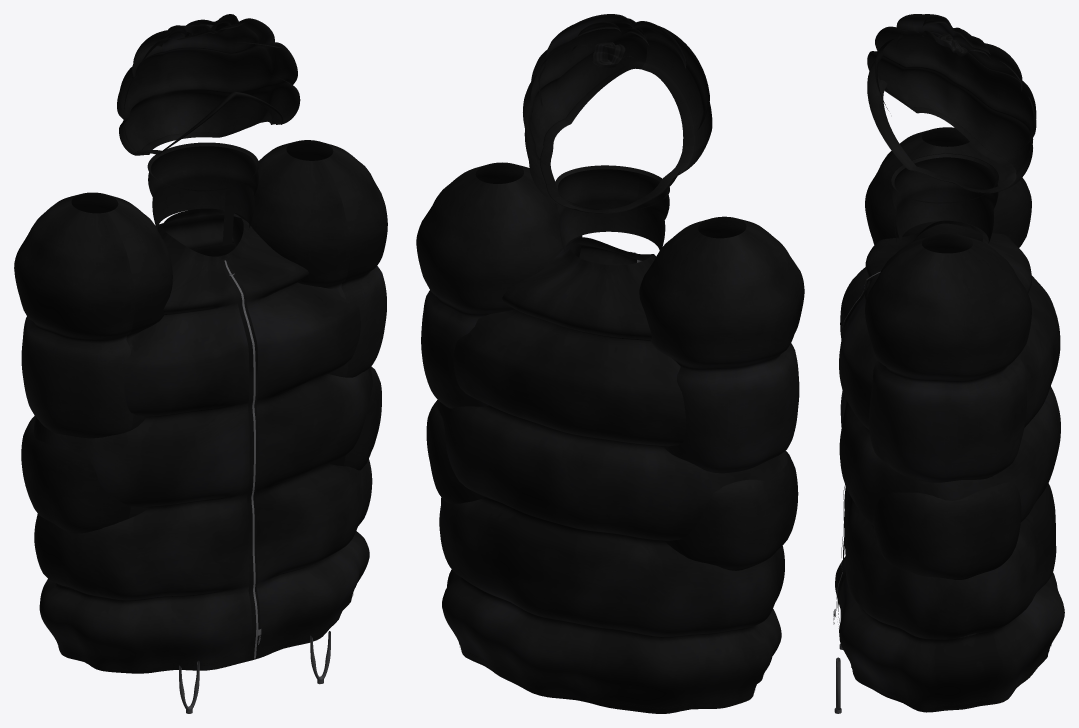
File: glossy-hooded-puffer.glb
3 renders of one model, left to right at view 1: azimuth 30°, elevation 25°; view 2: azimuth 150°, elevation 25°; view 3: azimuth 270°, elevation 25°, orthographic. The views are drawn at different scales.
Visible parts, largest first — view 1: Measured garment body#0, Sleeve#19, Sleeve#23, Quilted hood#4, Stand collar#2, Zip tape#7, Hood mouth edge#6, Silver coil zipper#8, Collar top edge#3; view 2: Measured garment body#0, Sleeve#19, Sleeve#23, Quilted hood#4, Stand collar#2, Hood mouth edge#6, Collar top edge#3, Hood crown#5; view 3: Measured garment body#0, Sleeve#23, Quilted hood#4, Sleeve#19, Stand collar#2, Hood mouth edge#6, Collar top edge#3, Zip tape#7.
Boxes of the visible parts, x1=… form: Measured garment body#0: x1=34, y1=208, x2=372, y2=673; Sleeve#19: x1=14, y1=192, x2=172, y2=533; Sleeve#23: x1=232, y1=140, x2=387, y2=470; Quilted hood#4: x1=117, y1=14, x2=300, y2=155; Stand collar#2: x1=148, y1=146, x2=258, y2=229; Zip tape#7: x1=220, y1=258, x2=260, y2=659; Hood mouth edge#6: x1=134, y1=91, x2=283, y2=155; Silver coil zipper#8: x1=224, y1=260, x2=258, y2=658; Collar top edge#3: x1=147, y1=142, x2=259, y2=191; Measured garment body#0: x1=437, y1=237, x2=787, y2=713; Sleeve#19: x1=639, y1=216, x2=804, y2=570; Sleeve#23: x1=416, y1=162, x2=582, y2=504; Quilted hood#4: x1=523, y1=14, x2=712, y2=213; Stand collar#2: x1=555, y1=169, x2=669, y2=252; Hood mouth edge#6: x1=540, y1=62, x2=694, y2=213; Collar top edge#3: x1=555, y1=165, x2=669, y2=210; Hood crown#5: x1=593, y1=42, x2=625, y2=66; Measured garment body#0: x1=835, y1=220, x2=1064, y2=712; Sleeve#23: x1=865, y1=234, x2=1031, y2=579; Quilted hood#4: x1=867, y1=14, x2=1036, y2=193; Sleeve#19: x1=865, y1=127, x2=1031, y2=247; Stand collar#2: x1=891, y1=157, x2=998, y2=243; Hood mouth edge#6: x1=875, y1=78, x2=1016, y2=192; Collar top edge#3: x1=891, y1=153, x2=998, y2=203; Zip tape#7: x1=837, y1=271, x2=880, y2=622.
Bounding box in the file's own units: 0.587 × 1.03 × 0.3309.
Materials: 6 (4 with a texture image).
